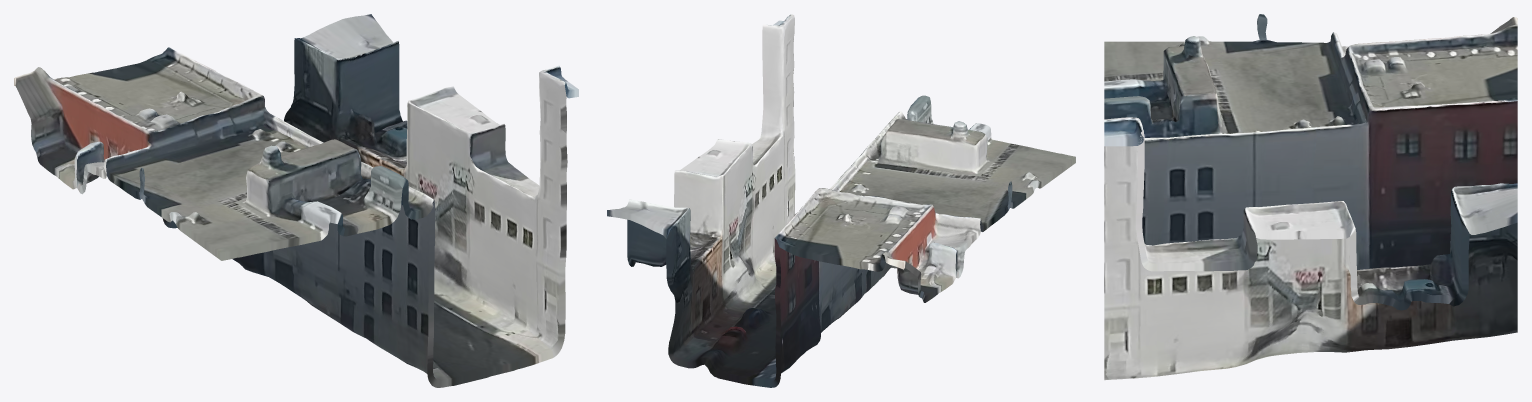
The model's file is z20-167754-405244-h0-yup-uvflip-v3-world.glb.
The picture shows the model from 3 angles, left to right: view 1: azimuth 30°, elevation 25°; view 2: azimuth 150°, elevation 25°; view 3: azimuth 270°, elevation 25°; orthographic projection. The views are drawn at different scales.
Bounding box in the file's own units: 30.16 × 22.36 × 30.32.
Materials: 1 (1 with a texture image).
